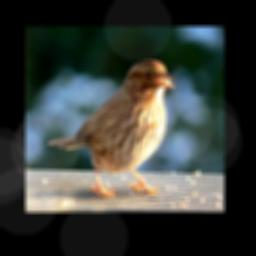Sparrow: (44, 57, 175, 197)
